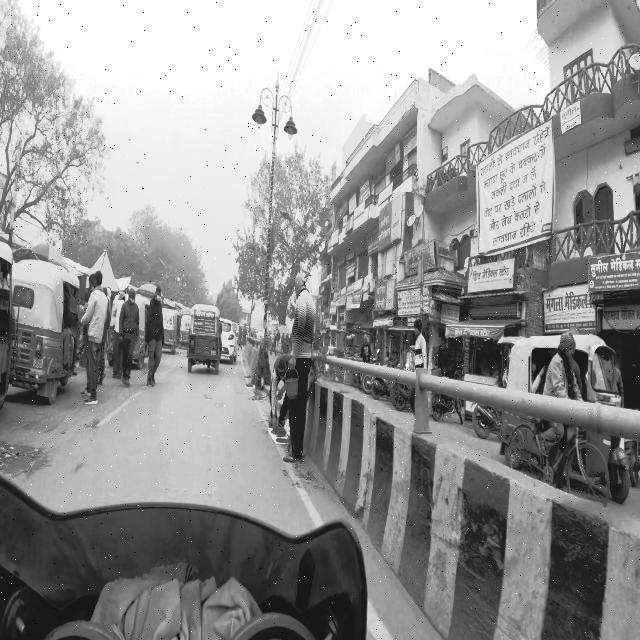Auto-Rickshaw: (501, 324, 637, 512), (13, 247, 81, 409), (107, 292, 154, 371), (189, 304, 220, 376)
Car: (219, 316, 239, 367)
